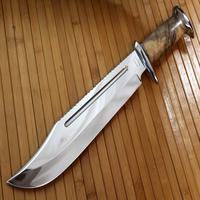knife: (4, 10, 187, 192)
